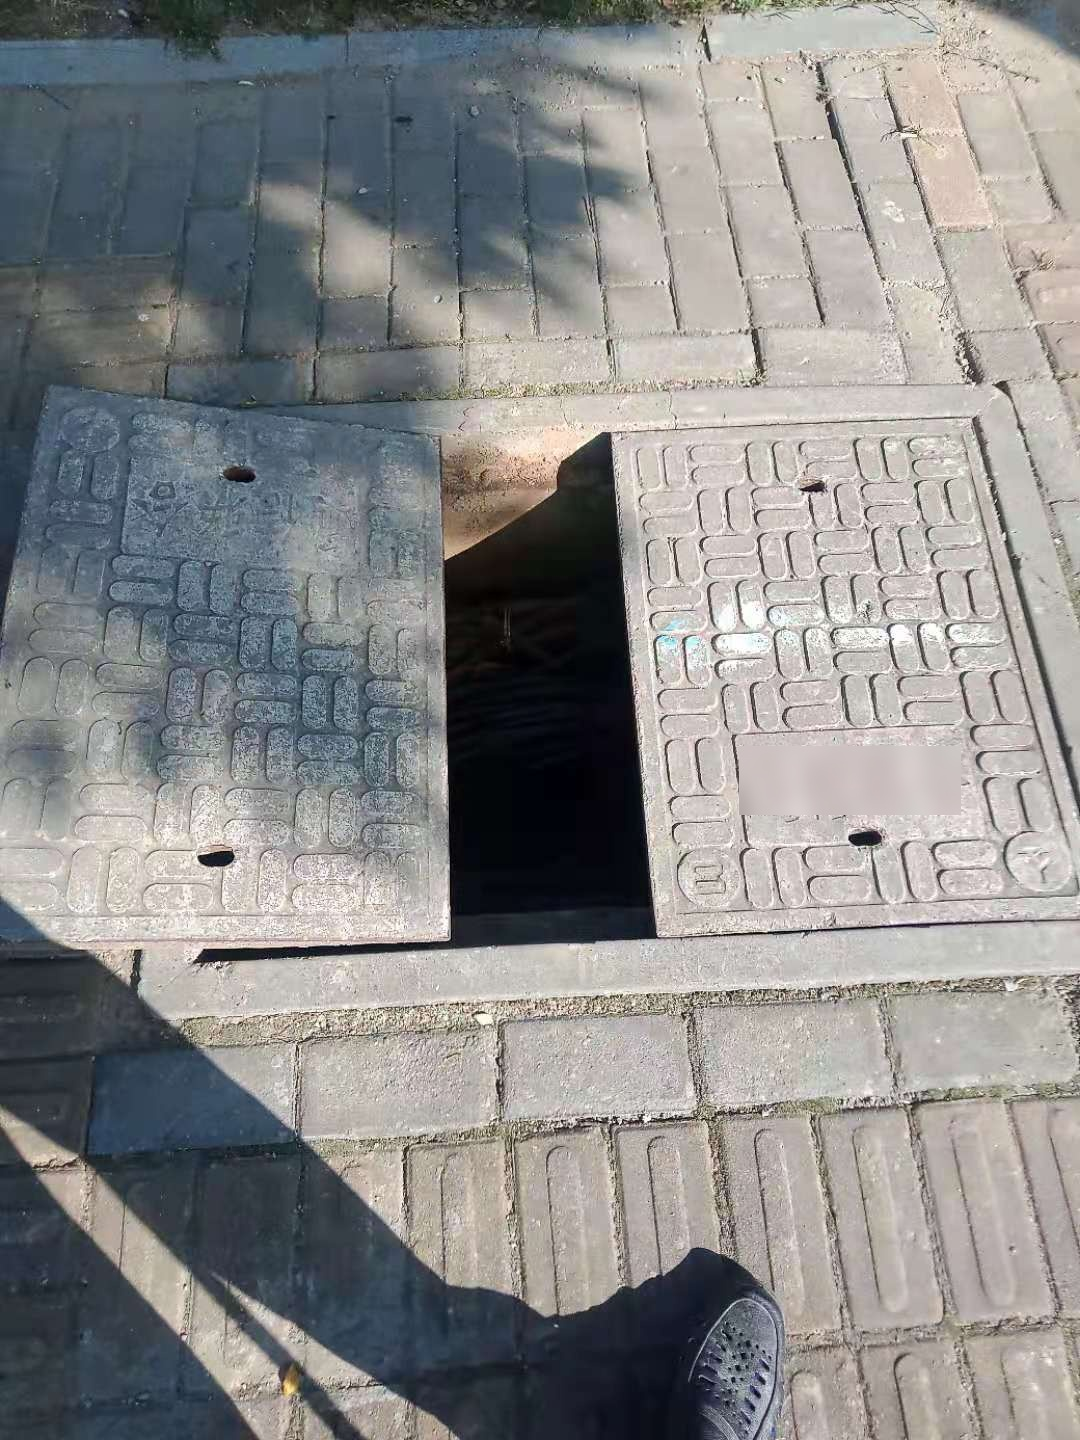well: (5, 386, 1080, 1016)
